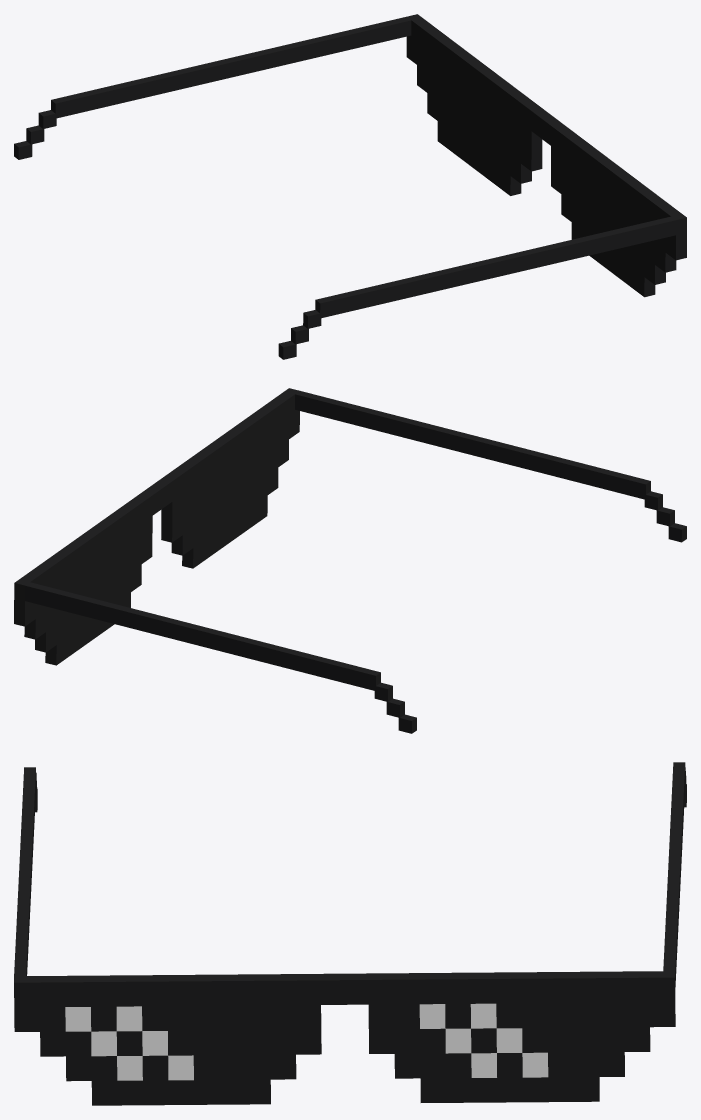
File: glasses.glb
3 renders of one model, top to bottom at view 1: azimuth 30°, elevation 25°; view 2: azimuth 150°, elevation 25°; view 3: azimuth 270°, elevation 25°, orthographic. The views are drawn at different scales.
Parts seen in each view (by area): view 1: cube_104, cube_108, cube_51; view 2: cube_108, cube_104, cube_51; view 3: cube_104, cube_108, cube_51, cube_58, cube_12, cube_44, cube_53, cube_60, cube_49, cube_46, cube_56, cube_3 (+93 smaller).
Part boxes in pixels (x1,y1,x2,y2): cube_104: (51,16,411,118); cube_108: (315,216,675,318); cube_51: (531,108,561,145); cube_108: (295,391,650,499); cube_104: (25,582,380,690); cube_51: (142,478,172,515); cube_104: (663,762,685,986); cube_108: (14,767,36,976); cube_51: (320,973,368,1004); cube_58: (521,972,547,1003); cube_12: (90,975,116,1006); cube_44: (269,974,295,1005); cube_53: (649,971,675,1002); cube_60: (470,972,496,1003); cube_49: (141,975,167,1006); cube_46: (218,974,244,1005); cube_56: (572,971,598,1002); cube_3: (39,976,65,1007).
Bounding box in the file's own units: 4.06 × 1.02 × 4.84.
Materials: 1 (1 with a texture image).
